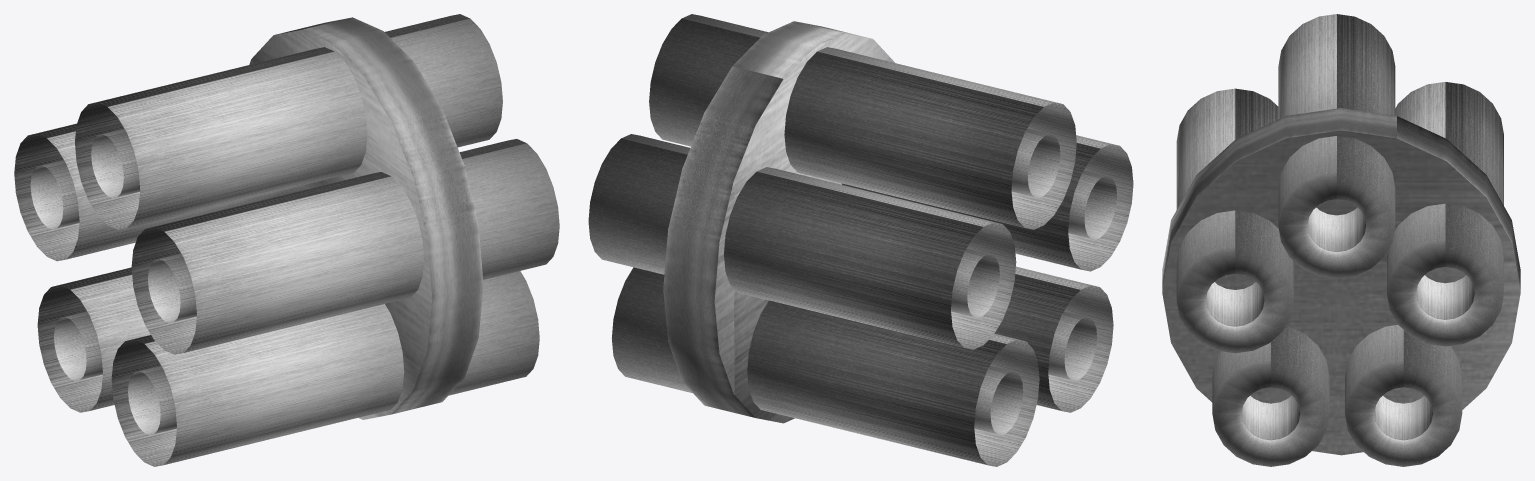
The model's file is torreta.obj.
The picture shows the model from 3 angles, left to right: view 1: azimuth 30°, elevation 25°; view 2: azimuth 150°, elevation 25°; view 3: azimuth 270°, elevation 25°; orthographic projection. The views are drawn at different scales.
Visible parts, largest first — view 1: objt; view 2: objt; view 3: objt.
Boxes of the visible parts, x1,y1,x2,y2 form: objt: [14, 14, 559, 466]; objt: [588, 14, 1133, 466]; objt: [1162, 14, 1520, 466].
Bounding box in the file's own units: 6.41 × 6.12 × 6.12.
